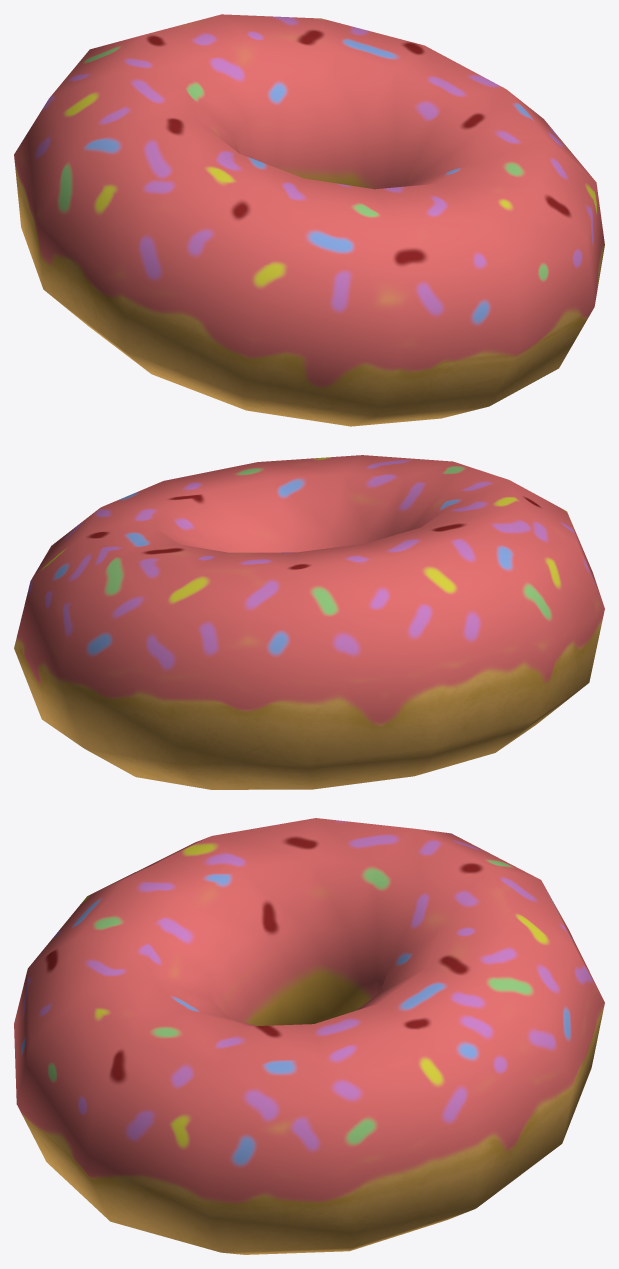
File: oDonut.fbx
3 renders of one model, top to bottom at view 1: azimuth 30°, elevation 25°; view 2: azimuth 150°, elevation 25°; view 3: azimuth 270°, elevation 25°, orthographic.
Visible parts, largest first — view 1: donut; view 2: donut; view 3: donut.
Boxes of the visible parts, bbox=[...] form: donut: bbox=[14, 14, 604, 426]; donut: bbox=[14, 455, 604, 789]; donut: bbox=[14, 818, 604, 1254].
Size of the model in its own units: 27.69 by 14.46 by 27.72.
